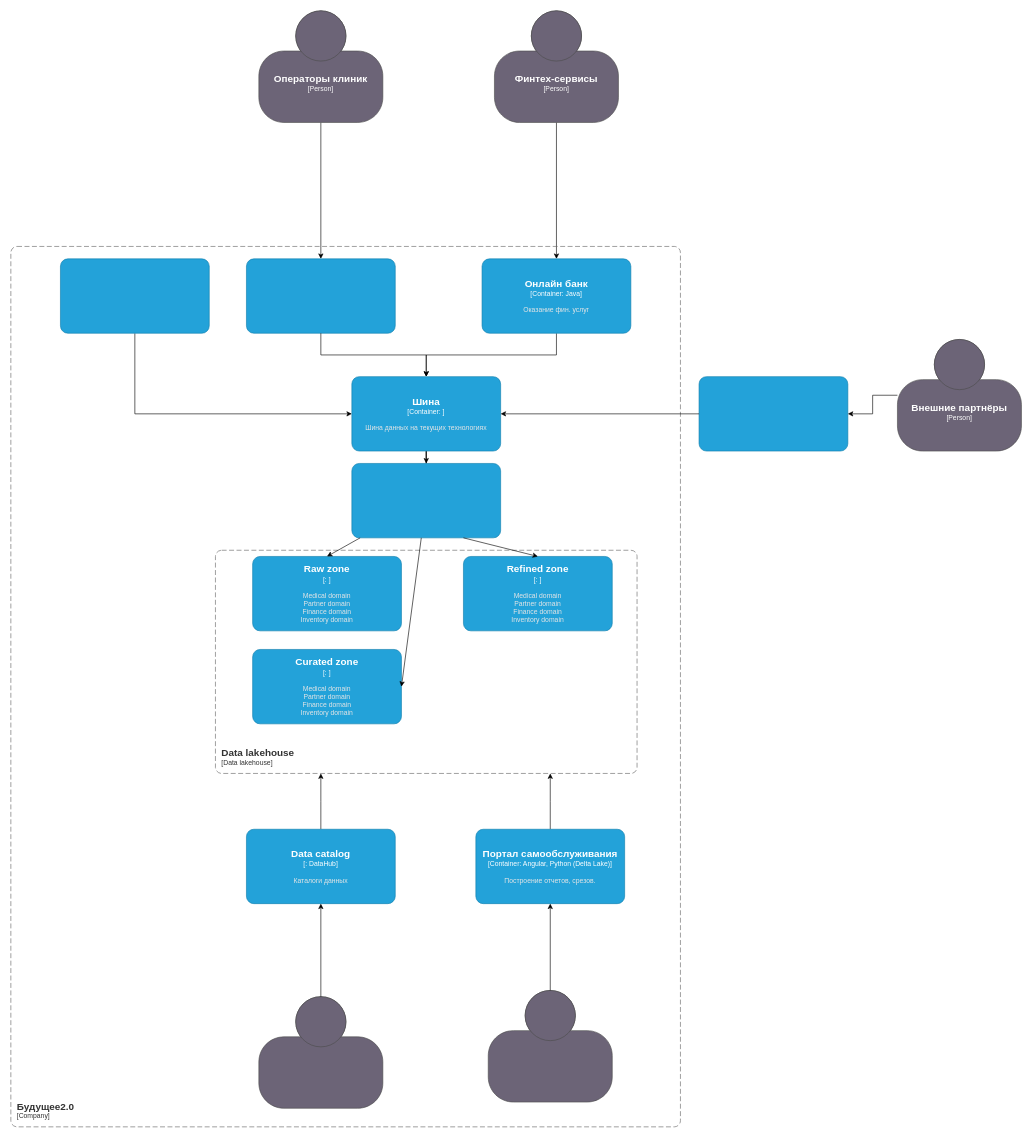
The diagram is 1032 pixels wide and 1138 high, and some of its shapes have lost their labels. The centre of each missing label's shape, as x and y in pixels:
Apache airflow [Container: Apache airflow] Управление ELT: point 426,500
Апи внешних партнеров [Container: Java] Партнеры отправляют данные в шину: point 773,413
Бизнес-пользователи [Person]: point 550,1046
Владельцы данных [Person]: point 320,1052
ИИ сервисы [Container: ]: point 134,295
Медицинский портал [Container: Java] Оказание мед. услуг: point 320,295
